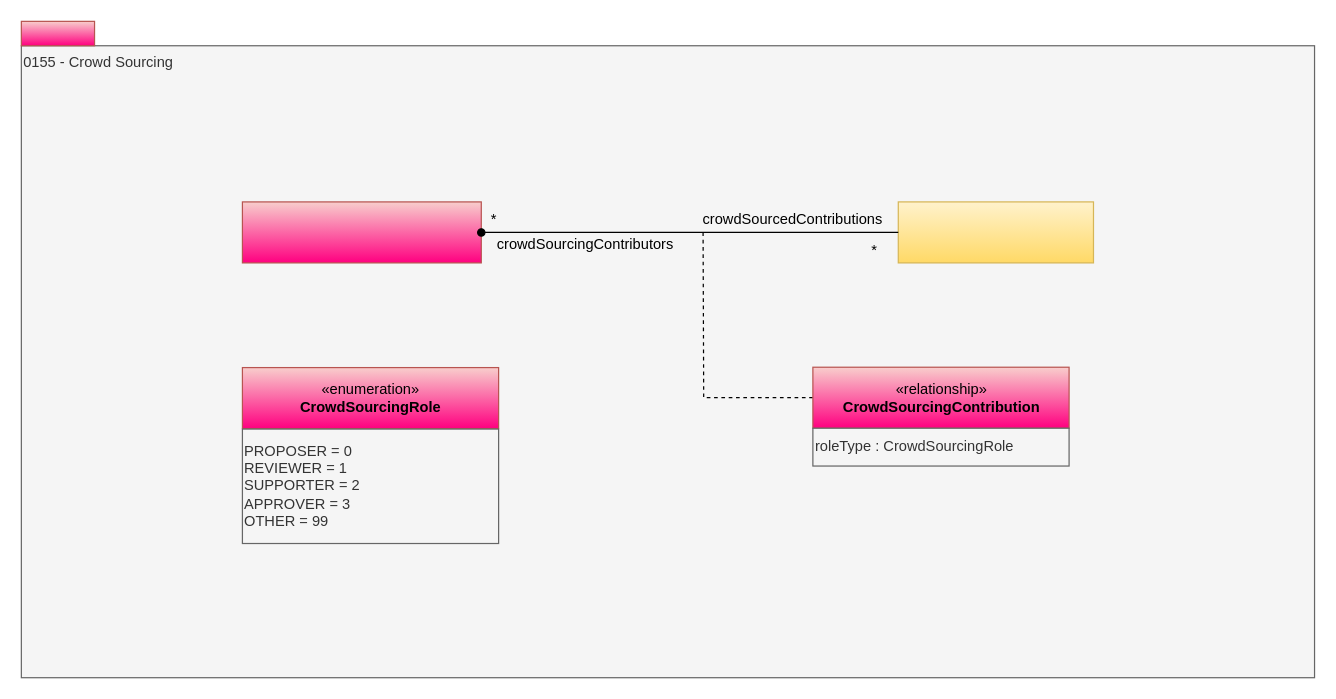
Image size: 1336x699. Some labels were removed from this diagram. The shapes that lost their labels are listed below. From the top down, each one's centre as x and y in pixels, then its label:
pixel 361 232: «entity» Actor
pixel 995 232: «entity» Referenceable
